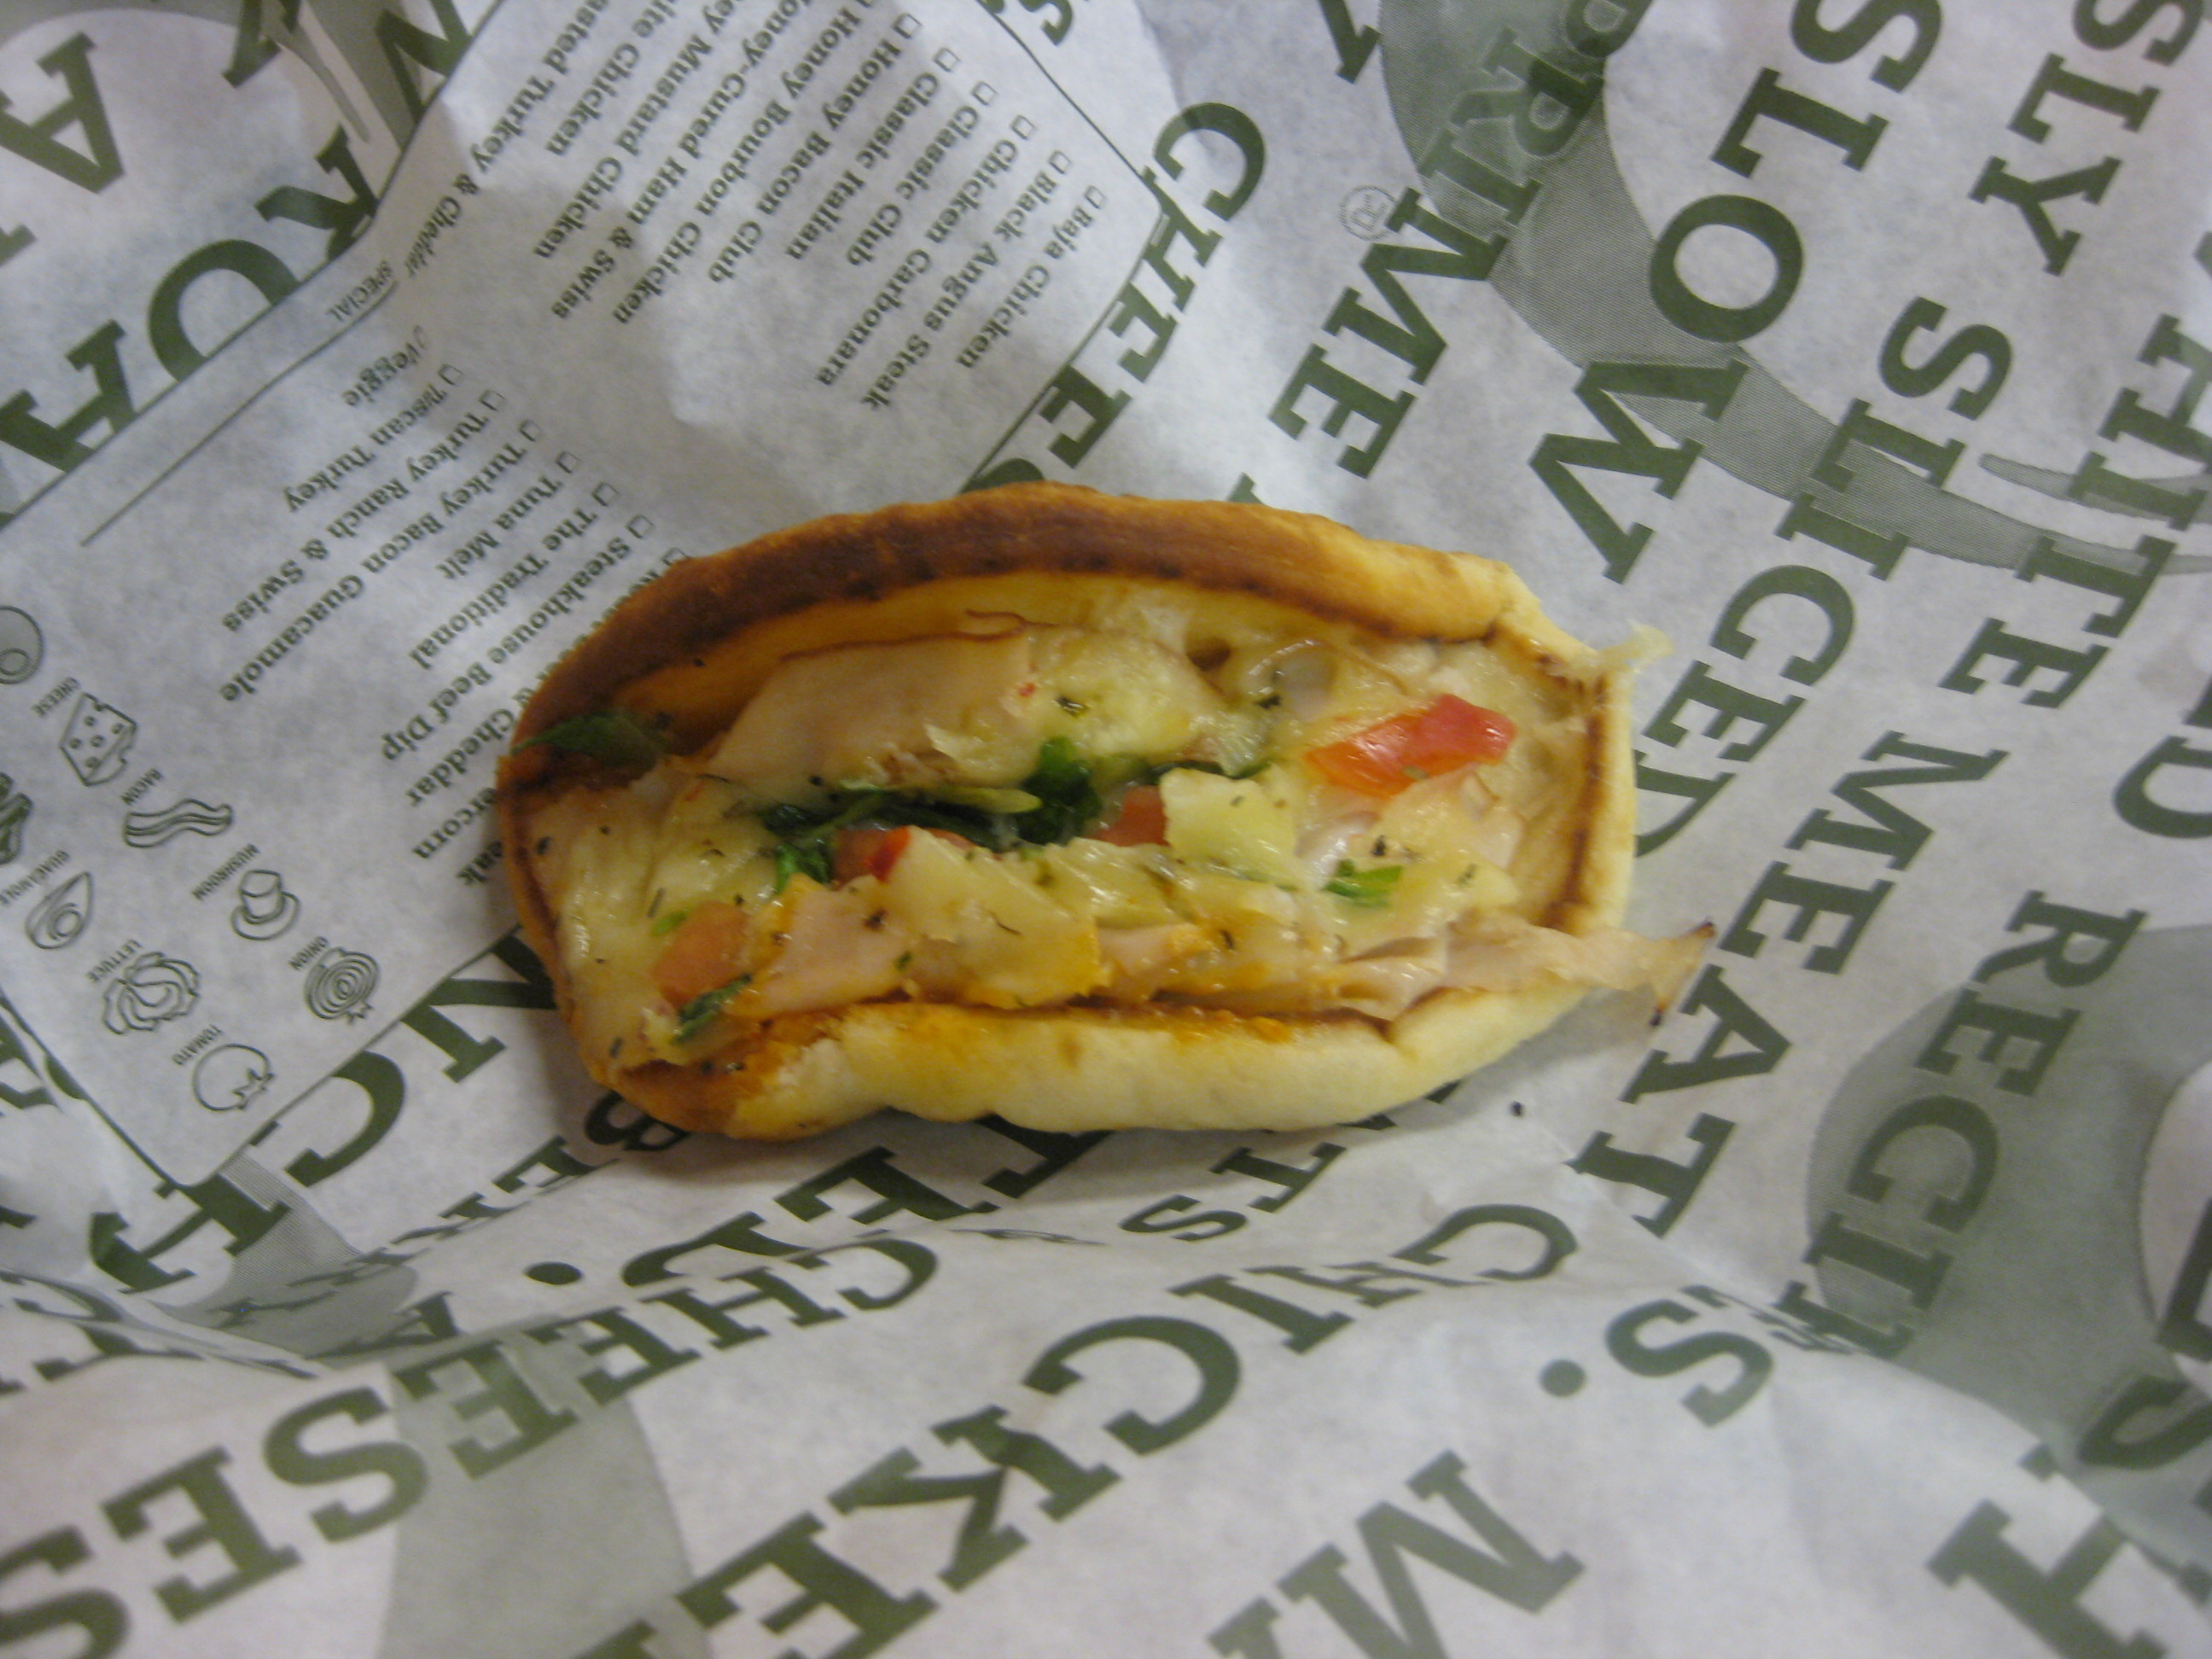taco: (426, 469, 1841, 1190)
